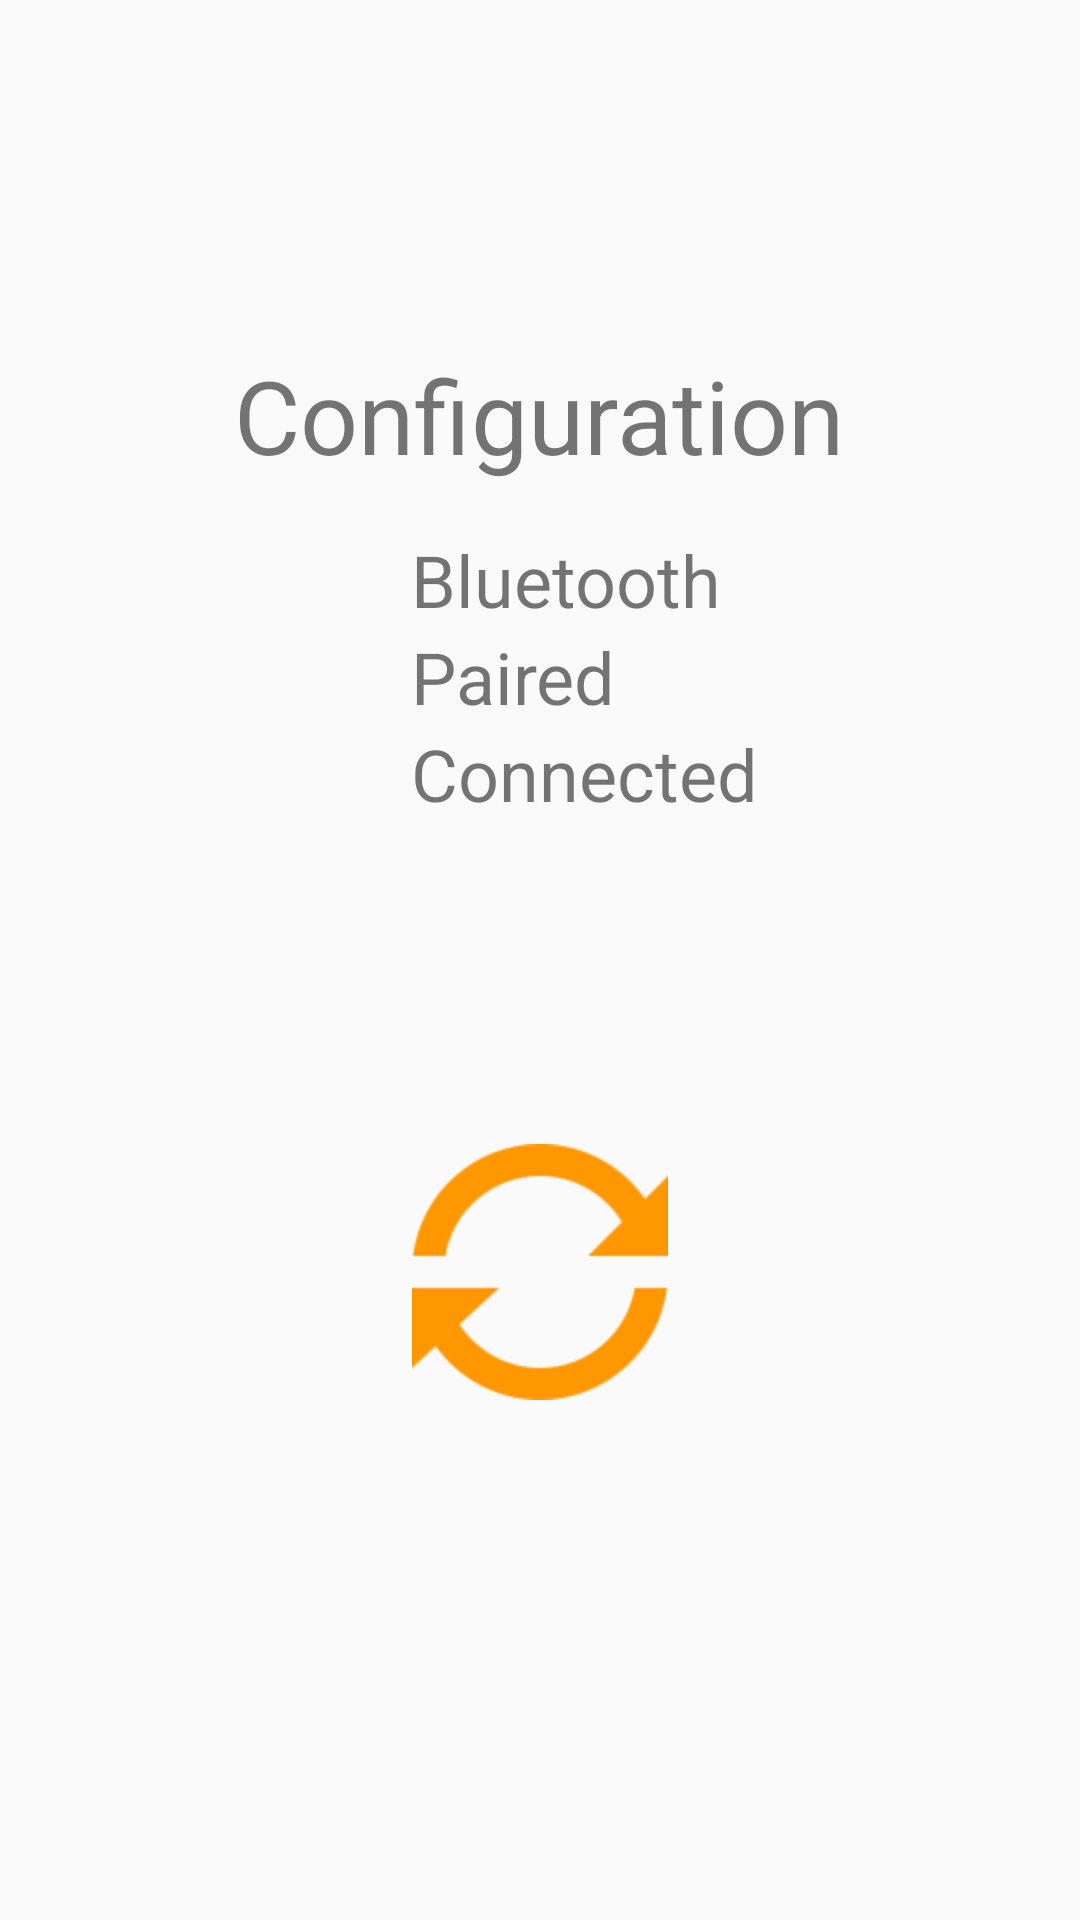

Screen size 1080 x 1920. Icon name, then its center in pixels as (x,y):
refresh: (540,1272)
